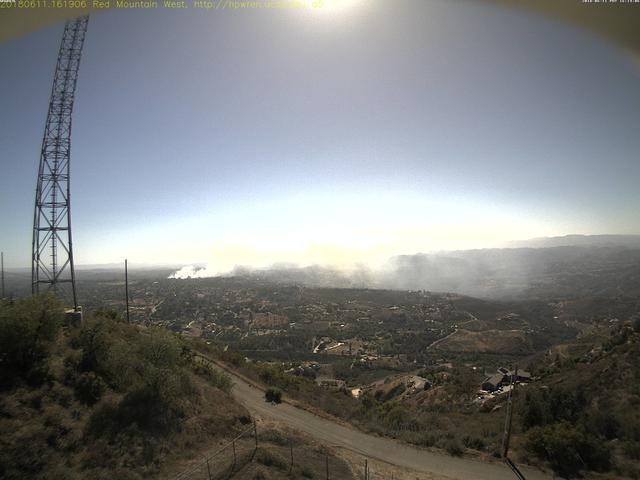smoke: (165, 242, 466, 297)
